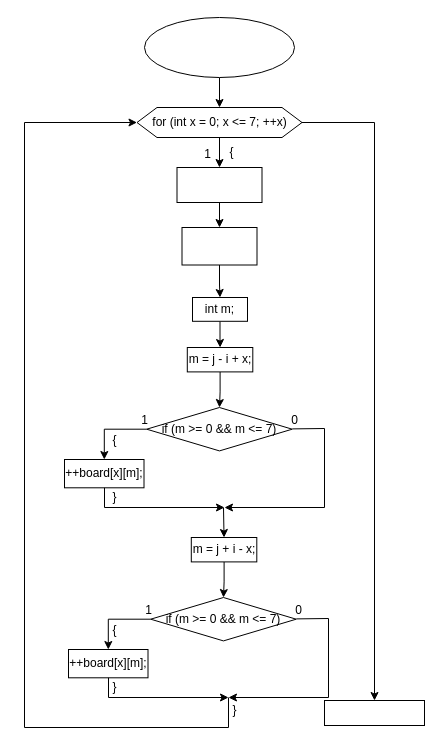
The diagram is 442 pixels wide and 753 high, and some of its shapes have lost their labels. The box of each missing label's shape, as (x1, y1, x2, y2) in pixels:
++board[i][x];: (181, 226, 257, 265)
++board[x][j];: (176, 166, 262, 202)
board[i][j] = -1;}: (324, 700, 424, 726)
void putqueen(int i, int j): (144, 16, 294, 78)
